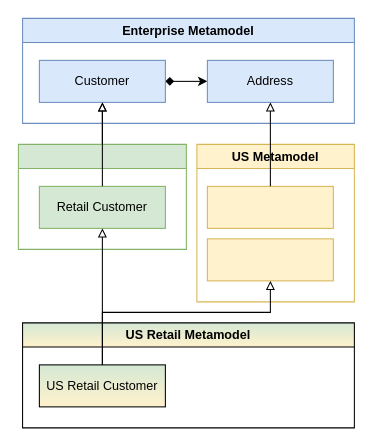
Some shapes in this 373 by 446 pixel diagram are drawn without their labels. The box of each missing label's shape, as (x1, y1, x2, y2) in pixels:
Retail Metamodel: (17, 143, 186, 249)
US Address: (206, 185, 333, 228)
US Person: (206, 238, 333, 281)
